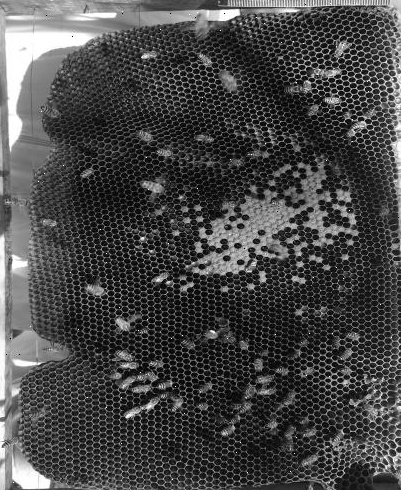cria: (114, 111, 390, 330)
